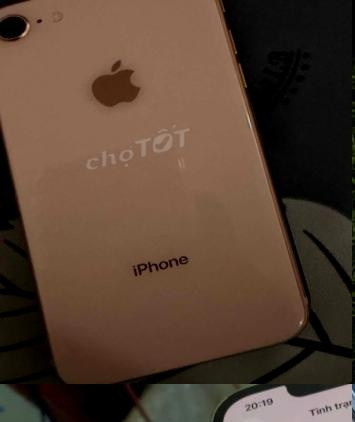scratch: (233, 77, 280, 203), (0, 7, 35, 45), (286, 305, 313, 331), (170, 149, 194, 174)
